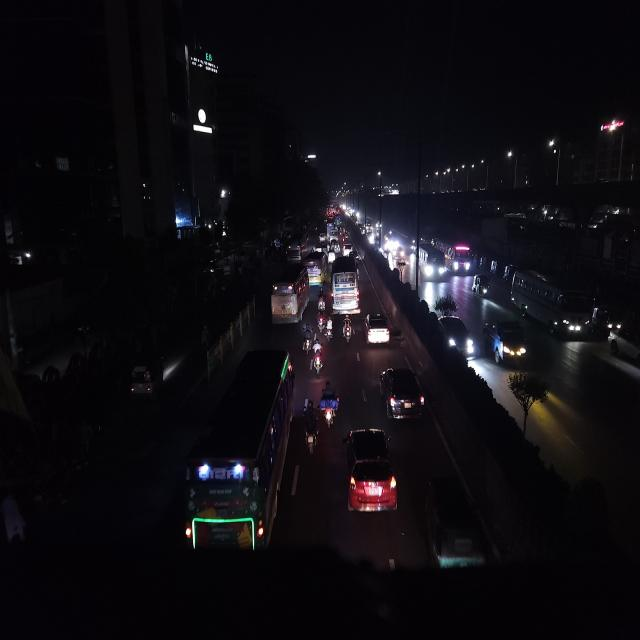bus: (179, 345, 295, 567), (505, 264, 598, 339), (269, 260, 311, 328), (329, 256, 363, 316), (418, 243, 447, 283), (446, 240, 474, 276), (307, 250, 327, 287), (286, 243, 304, 261)
car: (342, 423, 398, 527), (378, 361, 427, 426), (432, 310, 477, 366), (362, 307, 391, 350), (432, 294, 466, 317), (391, 244, 404, 264), (344, 243, 353, 256)
cng: (421, 468, 486, 579), (127, 348, 169, 408), (475, 273, 491, 300)
motorcycle: (318, 378, 342, 432), (302, 396, 320, 459), (340, 311, 355, 349), (310, 338, 324, 376), (474, 273, 490, 300), (301, 324, 313, 356), (316, 290, 326, 323), (318, 301, 328, 334), (324, 312, 334, 343)
pickup_van: (483, 316, 529, 368)
